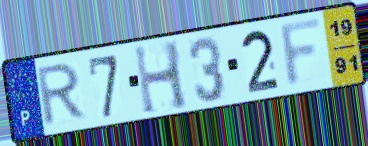2: (240, 27, 281, 95)
3: (187, 34, 226, 105)
7: (86, 52, 120, 120)
F: (278, 14, 325, 91)
H: (131, 38, 191, 117)
R: (36, 60, 89, 129)
